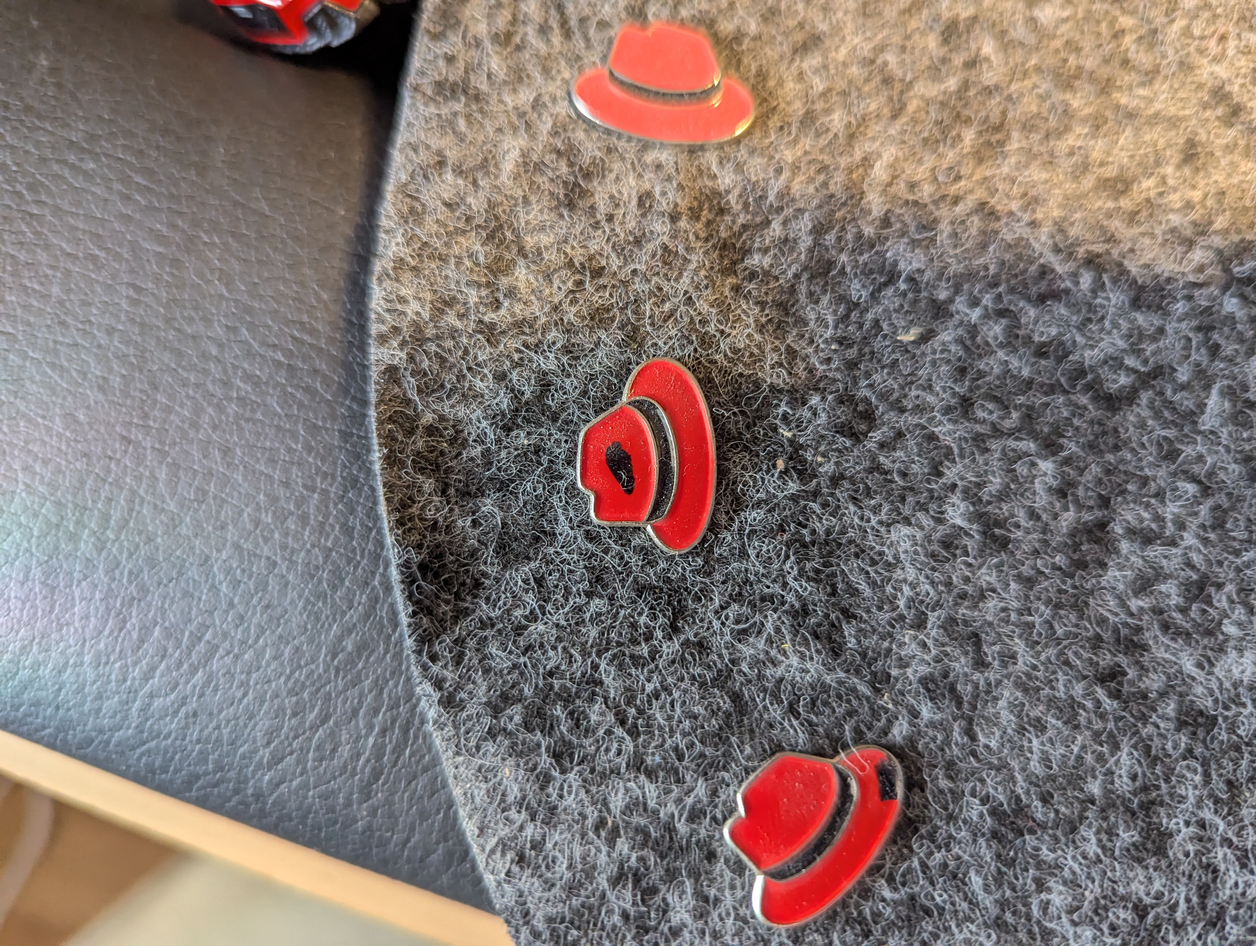Red-Hat: (705, 715, 939, 936), (541, 328, 749, 576), (549, 11, 772, 165)
Scratch: (588, 431, 650, 503), (859, 751, 914, 813)
